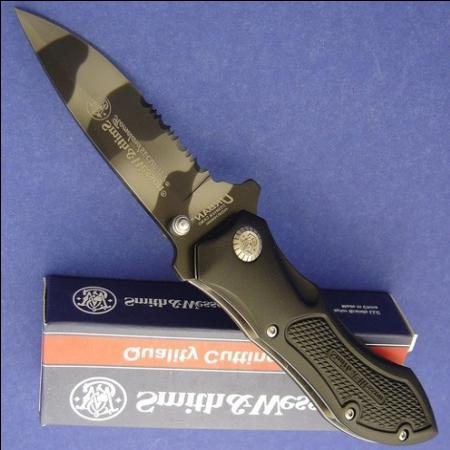long weapon: (9, 1, 241, 267)
